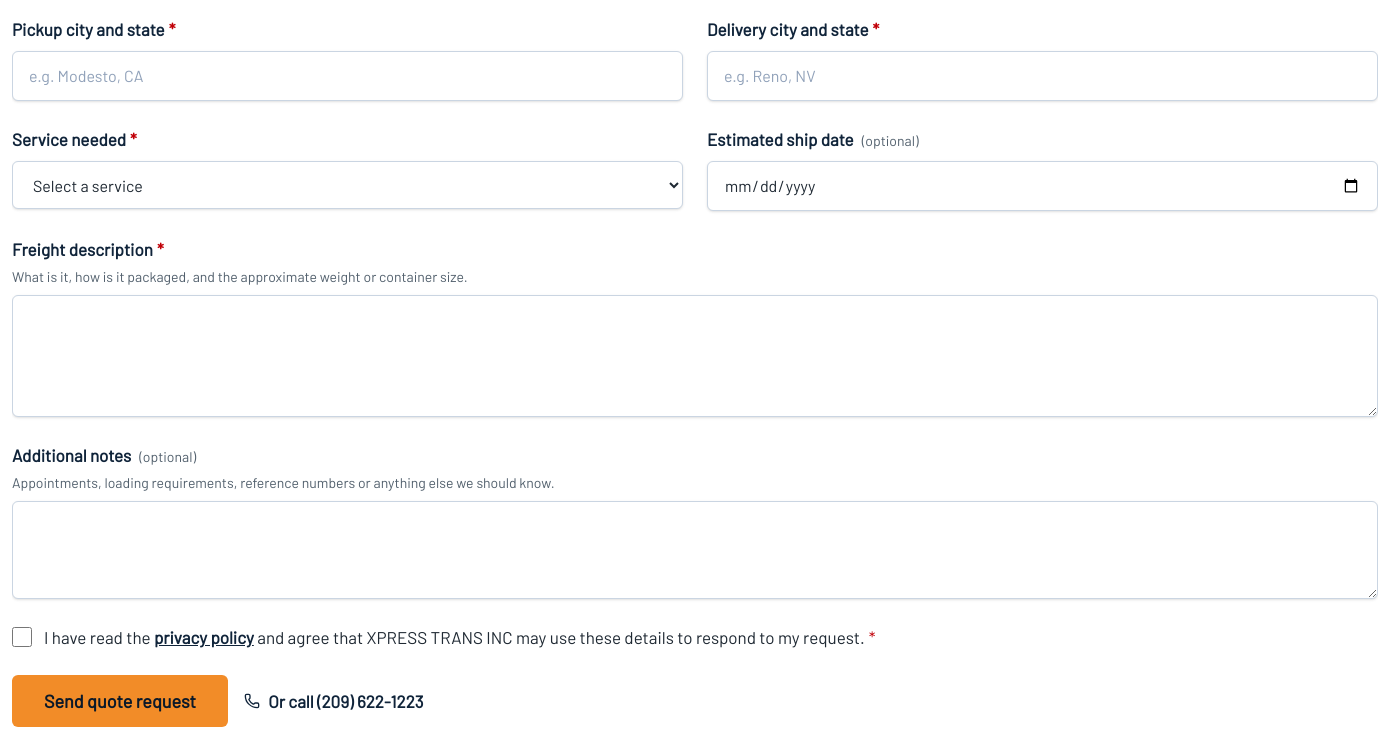
QuoteRequestForm › shows accessible errors and does not submit an empty form
(page scrolled)
Click the button "Send quote request".
click(120, 701)  # box [12,675,228,727]
(page scrolled)
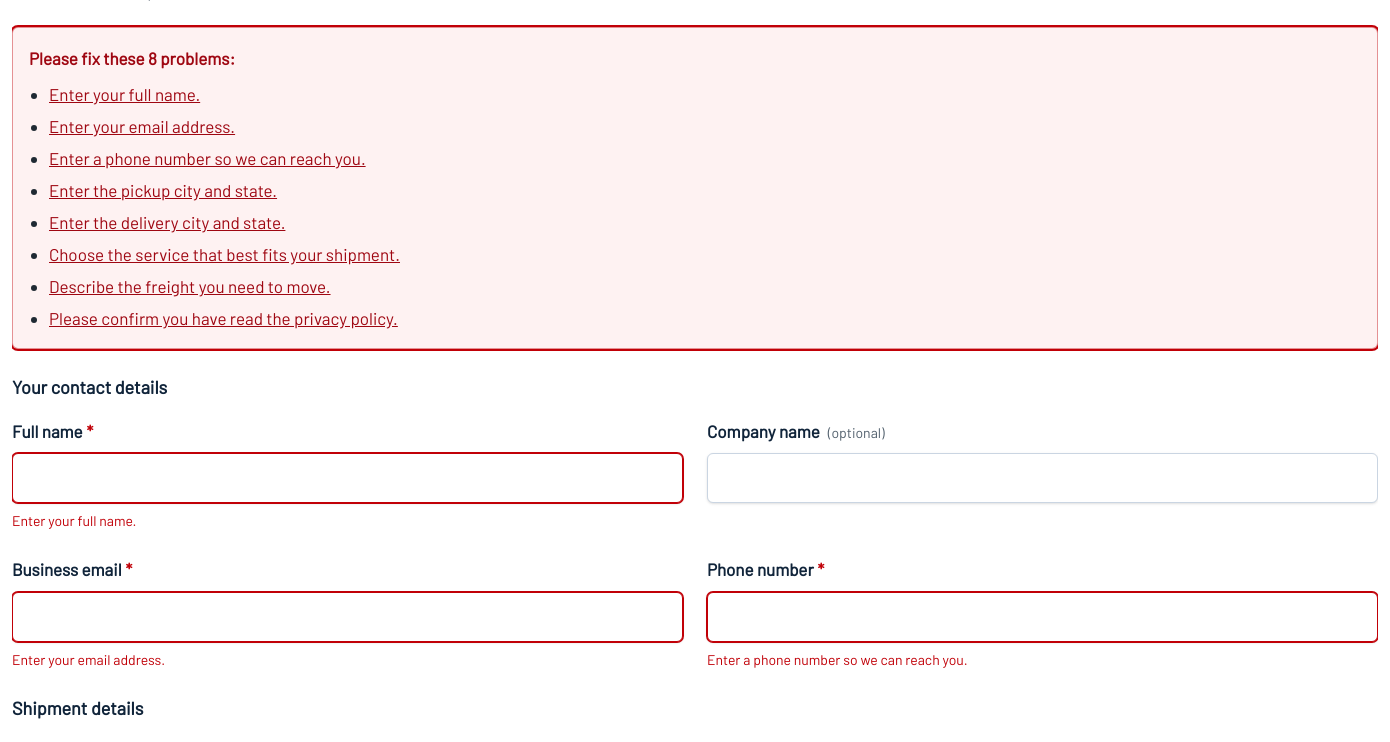
Result: the message shows "Please fix these 8 problems" at [12,27,1378,349]
